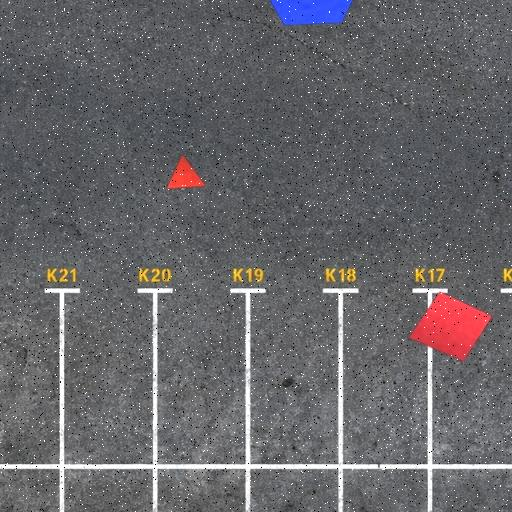RED_SQUARE: (407, 292, 493, 362)
